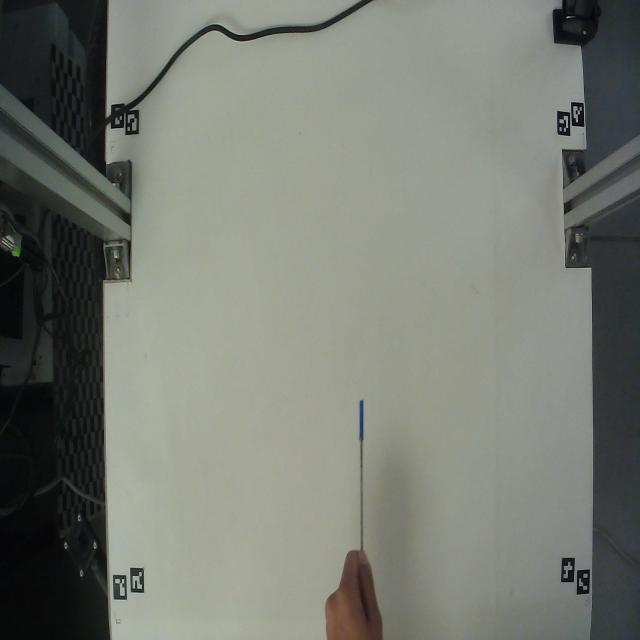NoPres: (340, 392, 384, 553)
